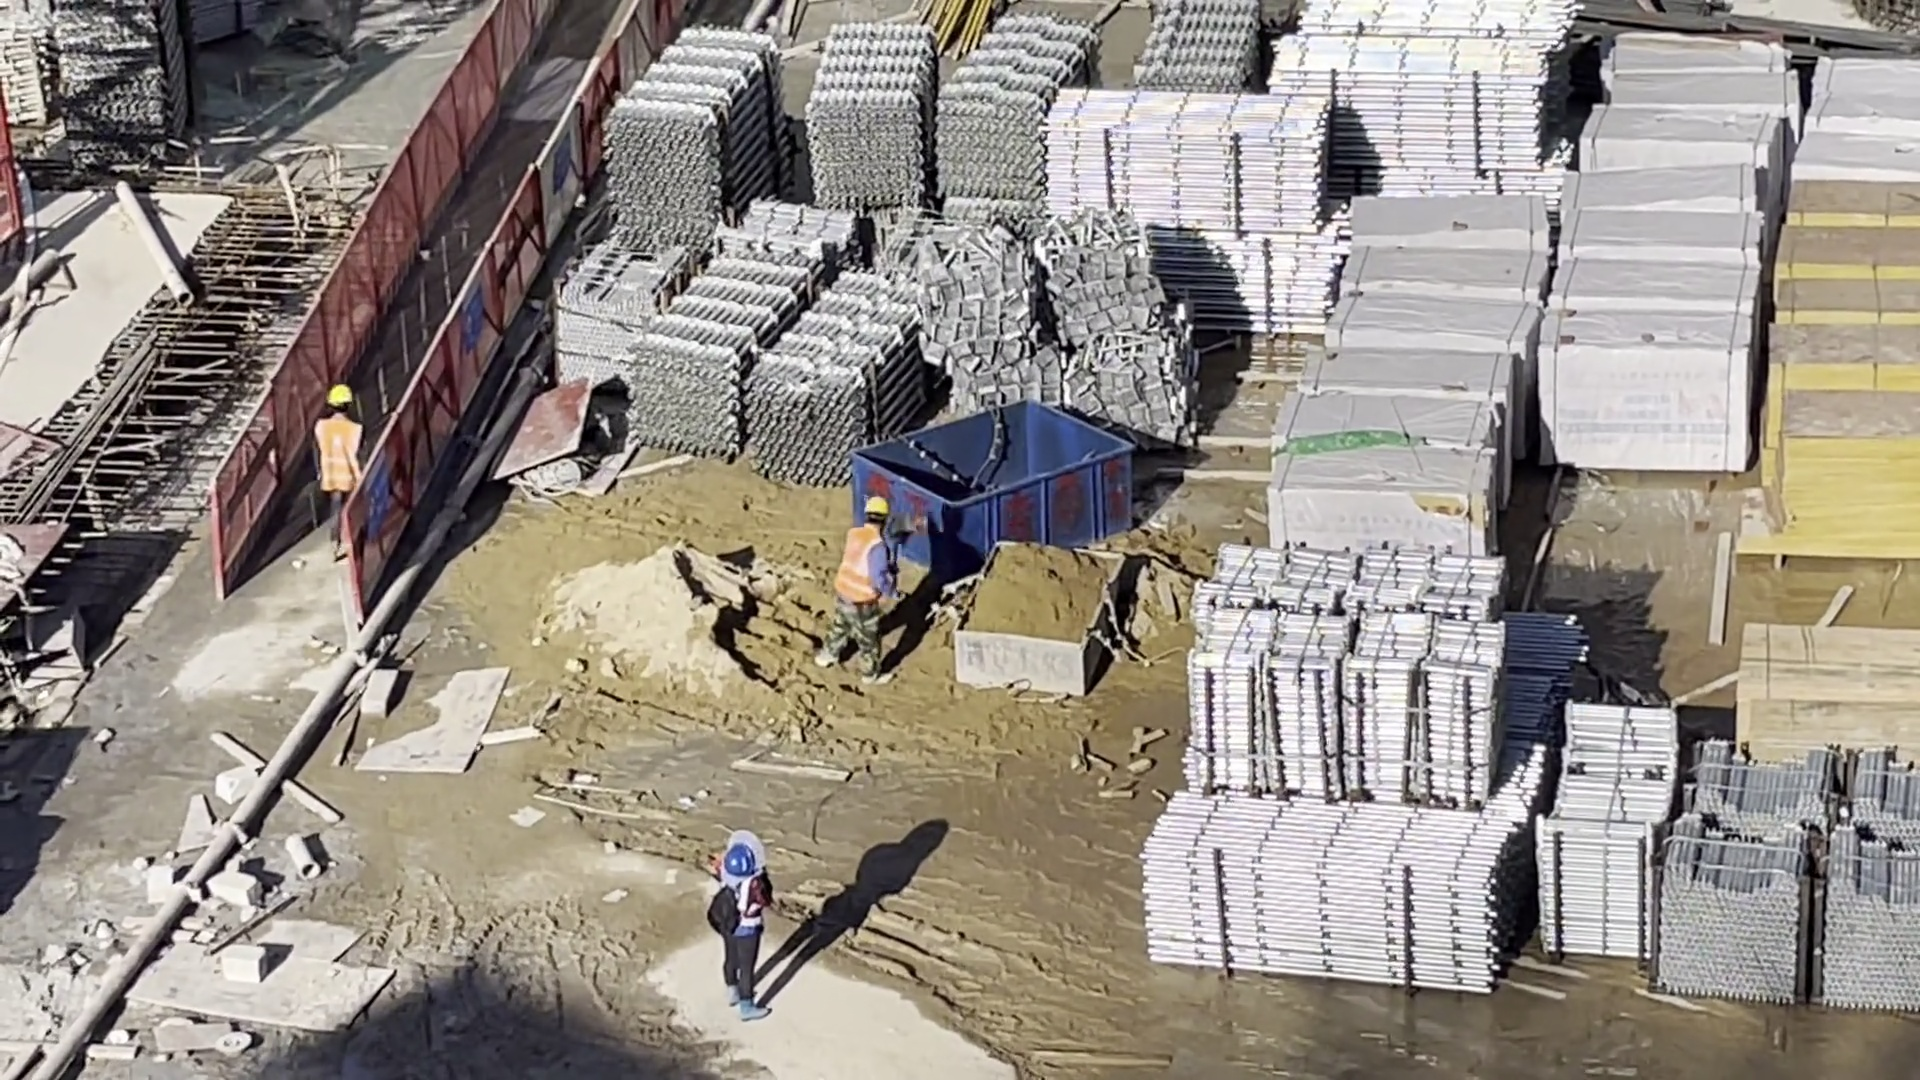board: (1769, 166, 1920, 562), (1738, 629, 1920, 745)
fence: (213, 10, 647, 549)
helmet: (725, 844, 755, 877), (328, 385, 355, 406), (865, 497, 888, 515)
hopper: (858, 404, 1135, 570), (952, 543, 1127, 689)
person: (825, 500, 897, 681), (715, 839, 775, 1015), (312, 381, 362, 556)
scaffold: (1188, 549, 1500, 806), (1038, 80, 1335, 331), (1144, 793, 1509, 995), (1669, 746, 1920, 1001), (640, 256, 917, 480), (808, 18, 1096, 214), (1269, 1, 1579, 174), (611, 27, 773, 238), (1548, 703, 1662, 960), (55, 1, 183, 147), (1142, 6, 1262, 91), (1, 10, 50, 126)
slogan: (367, 451, 396, 542), (458, 277, 483, 350)
vest: (839, 531, 883, 599), (320, 420, 363, 489), (725, 879, 759, 938)
